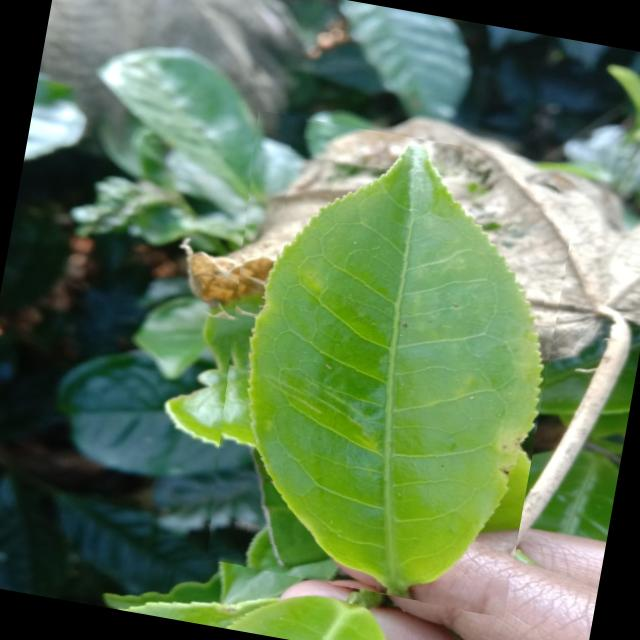Category B 2-4 days: (178, 111, 582, 618)
